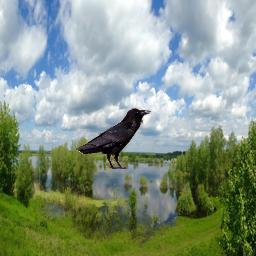Crow: (74, 106, 152, 169)
